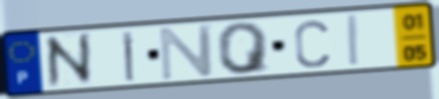C: (292, 17, 332, 70)
I: (347, 12, 363, 68), (121, 29, 137, 83)
N: (157, 22, 217, 83), (42, 31, 98, 91)
Q: (215, 20, 273, 76)
